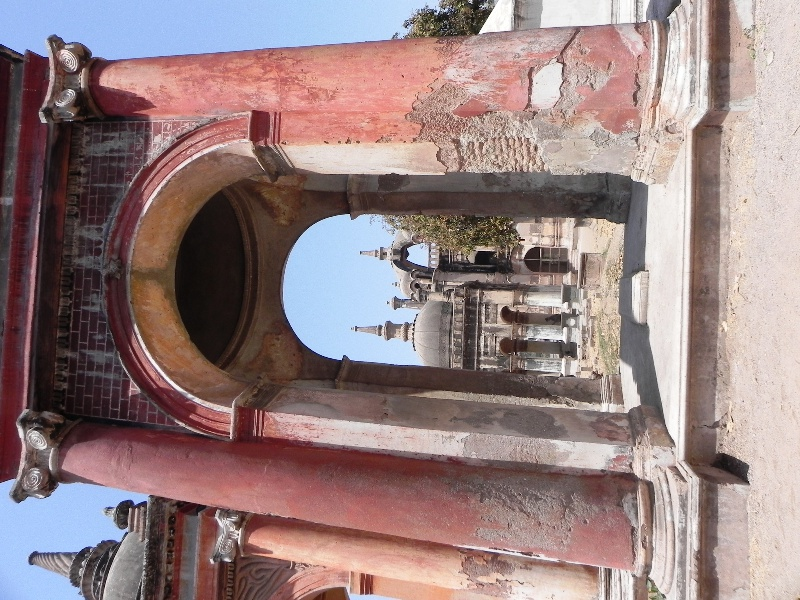Exposed Bricks: (451, 134, 546, 175)
Spalling: (448, 469, 591, 544), (402, 83, 448, 173)
